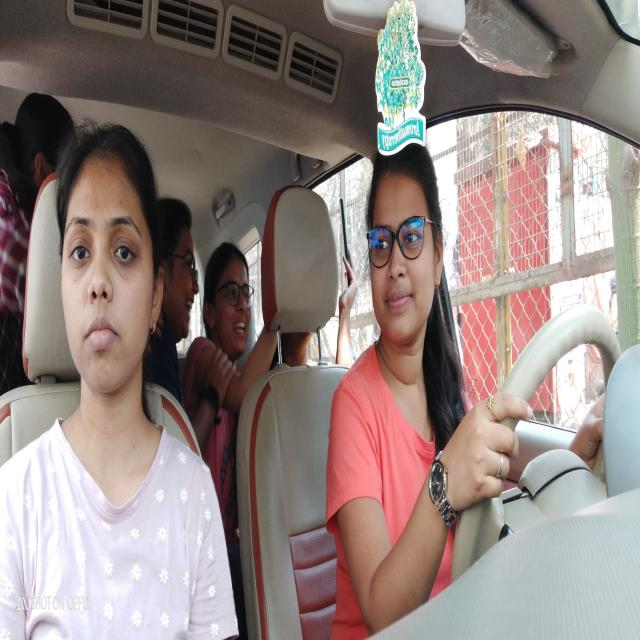LeftRight: (364, 174, 446, 339)
person: (64, 164, 157, 372), (206, 252, 253, 350), (170, 219, 200, 334), (22, 134, 64, 168)
